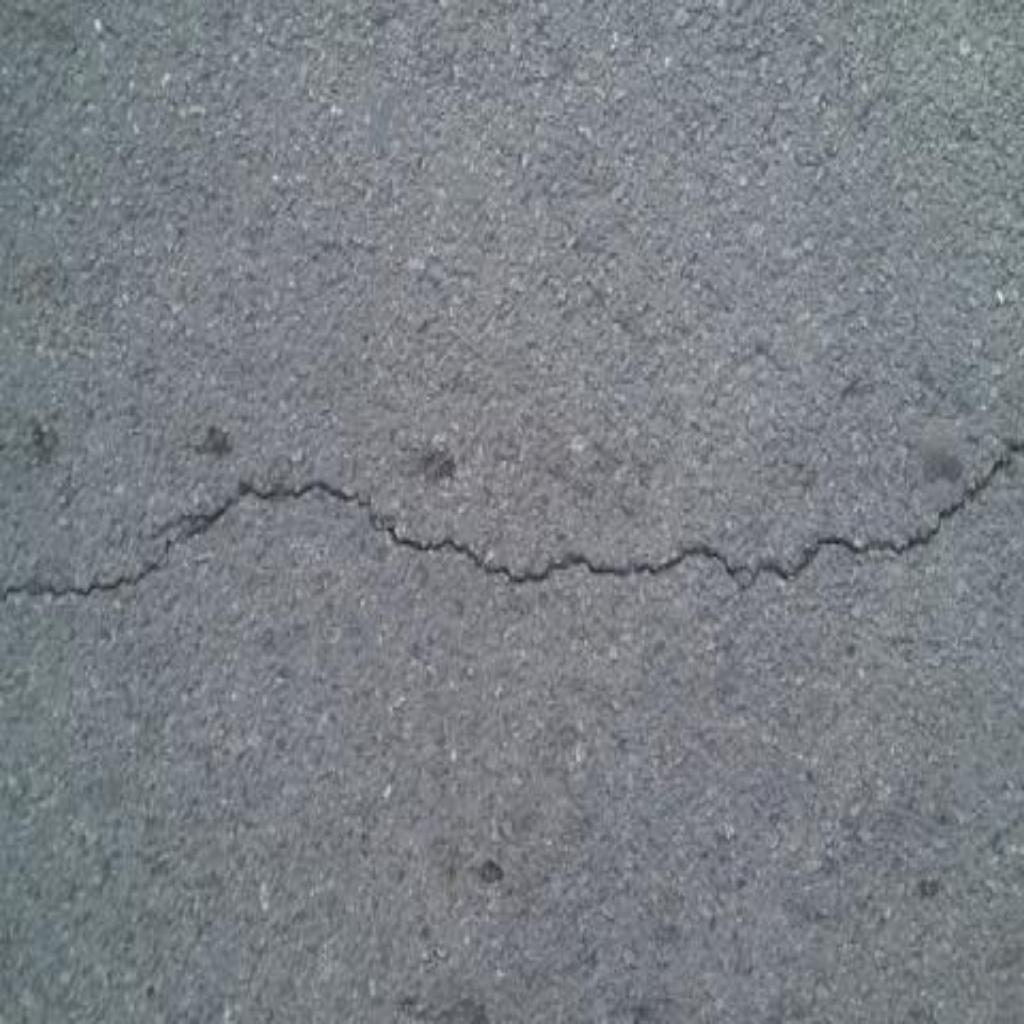Crack: (1, 440, 1024, 604)
